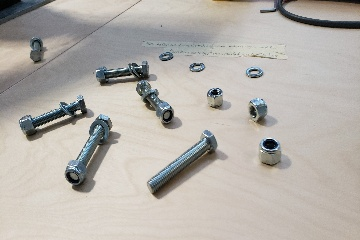Bolt: (145, 131, 223, 195)
FalseAssembly: (63, 113, 114, 187), (17, 94, 86, 137), (28, 32, 46, 66)
FinishedAssembly: (133, 78, 177, 125), (95, 59, 151, 83)
Nut: (257, 137, 286, 168), (243, 96, 270, 125), (205, 86, 224, 108)
Washer: (244, 66, 264, 78), (189, 62, 205, 72), (159, 51, 173, 61)
